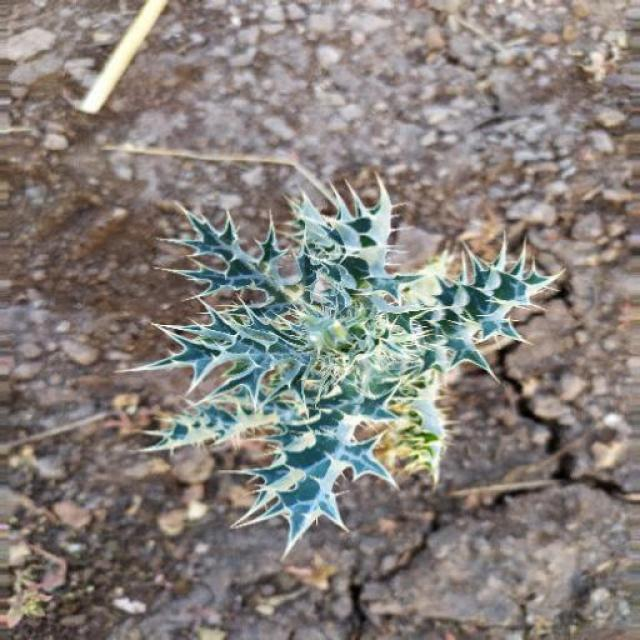weed: (120, 169, 569, 556)
